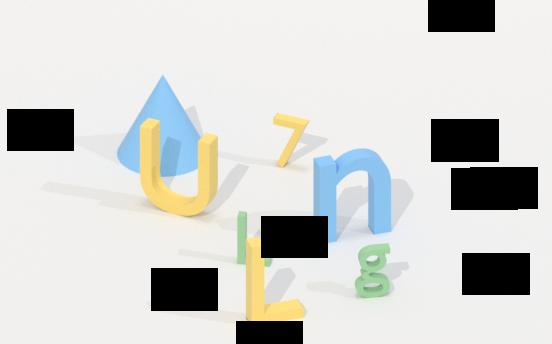7: (267, 110, 315, 169)
g: (352, 239, 396, 301)
l: (242, 253, 310, 330), (234, 206, 274, 269)
n: (302, 147, 402, 246)
non: (114, 71, 211, 179)
u: (131, 126, 231, 220)
